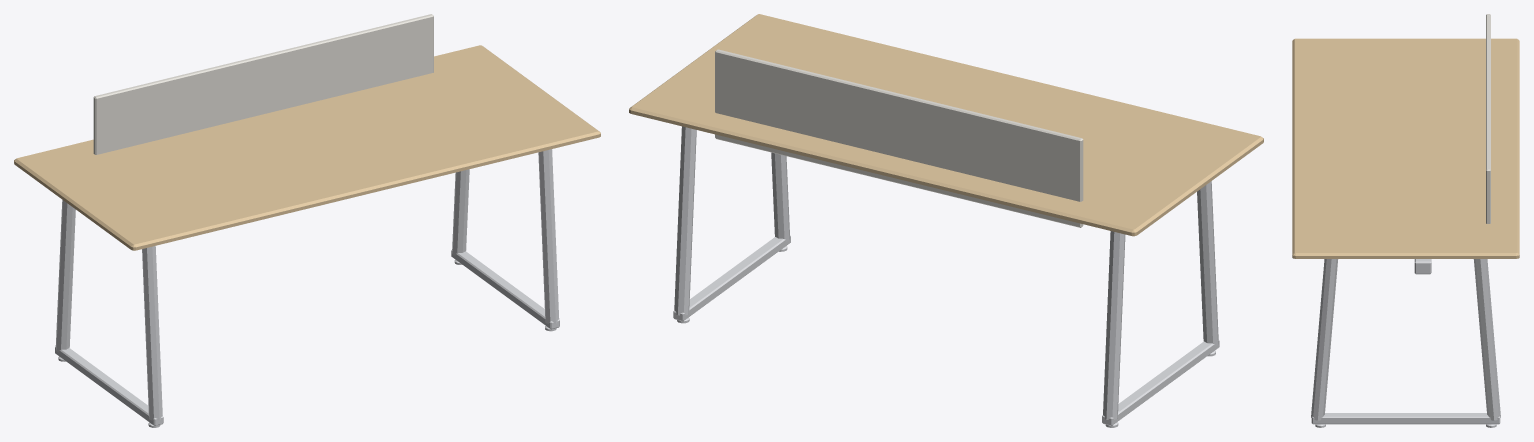
File: seminar-table.glb
3 renders of one model, left to right at view 1: azimuth 30°, elevation 25°; view 2: azimuth 150°, elevation 25°; view 3: azimuth 270°, elevation 25°, orthographic. The views are drawn at different scales.
Visible parts, largest first — view 1: seminar-table; view 2: seminar-table; view 3: seminar-table.
Part boxes in pixels (bbox=[...]): seminar-table: bbox=[14, 14, 600, 427]; seminar-table: bbox=[629, 14, 1263, 427]; seminar-table: bbox=[1292, 14, 1519, 427].
Bounding box in the file's own units: 1.8 × 0.94 × 0.7999.
